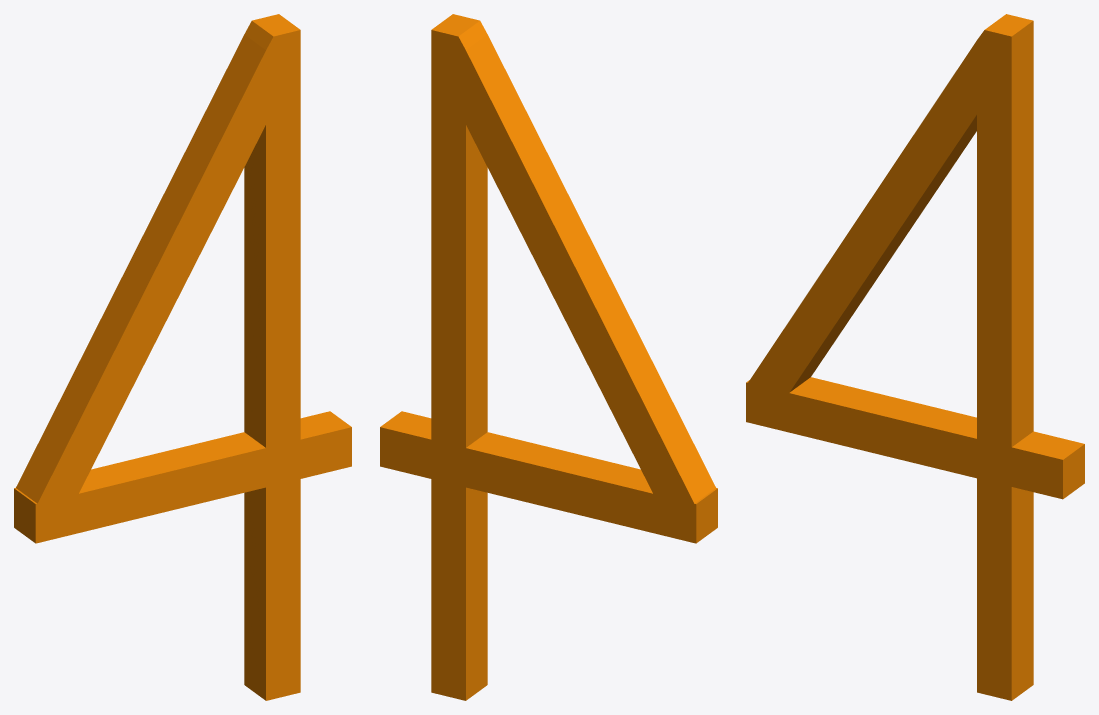
3 renders of one model, left to right at view 1: azimuth 30°, elevation 25°; view 2: azimuth 150°, elevation 25°; view 3: azimuth 330°, elevation 25°, orthographic.
Parts seen in each view (by area): view 1: 4; view 2: 4; view 3: 4.
Boxes of the visible parts, x1,y1,x2,y2 form: 4: (14,14,351,700); 4: (380,14,717,700); 4: (746,14,1084,700).
Bounding box in the file's own units: 41.93 × 83.99 × 5.
